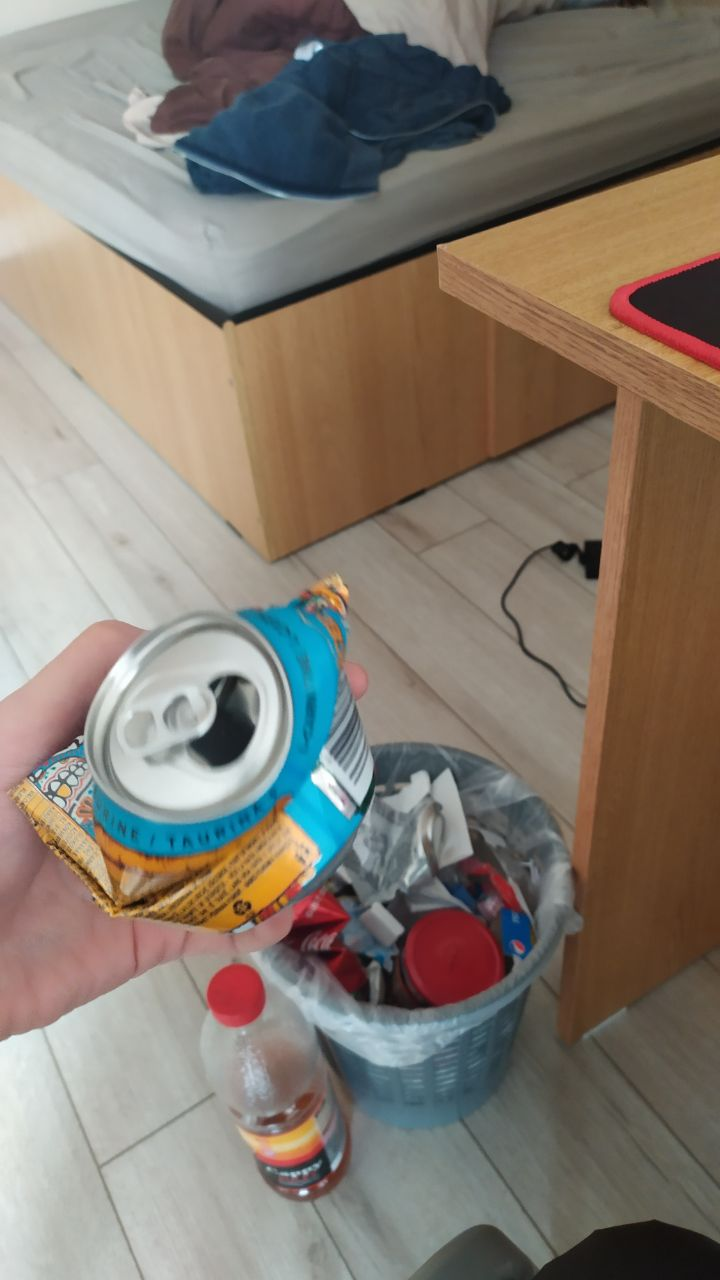Can: (13, 573, 380, 935), (344, 795, 445, 897)
